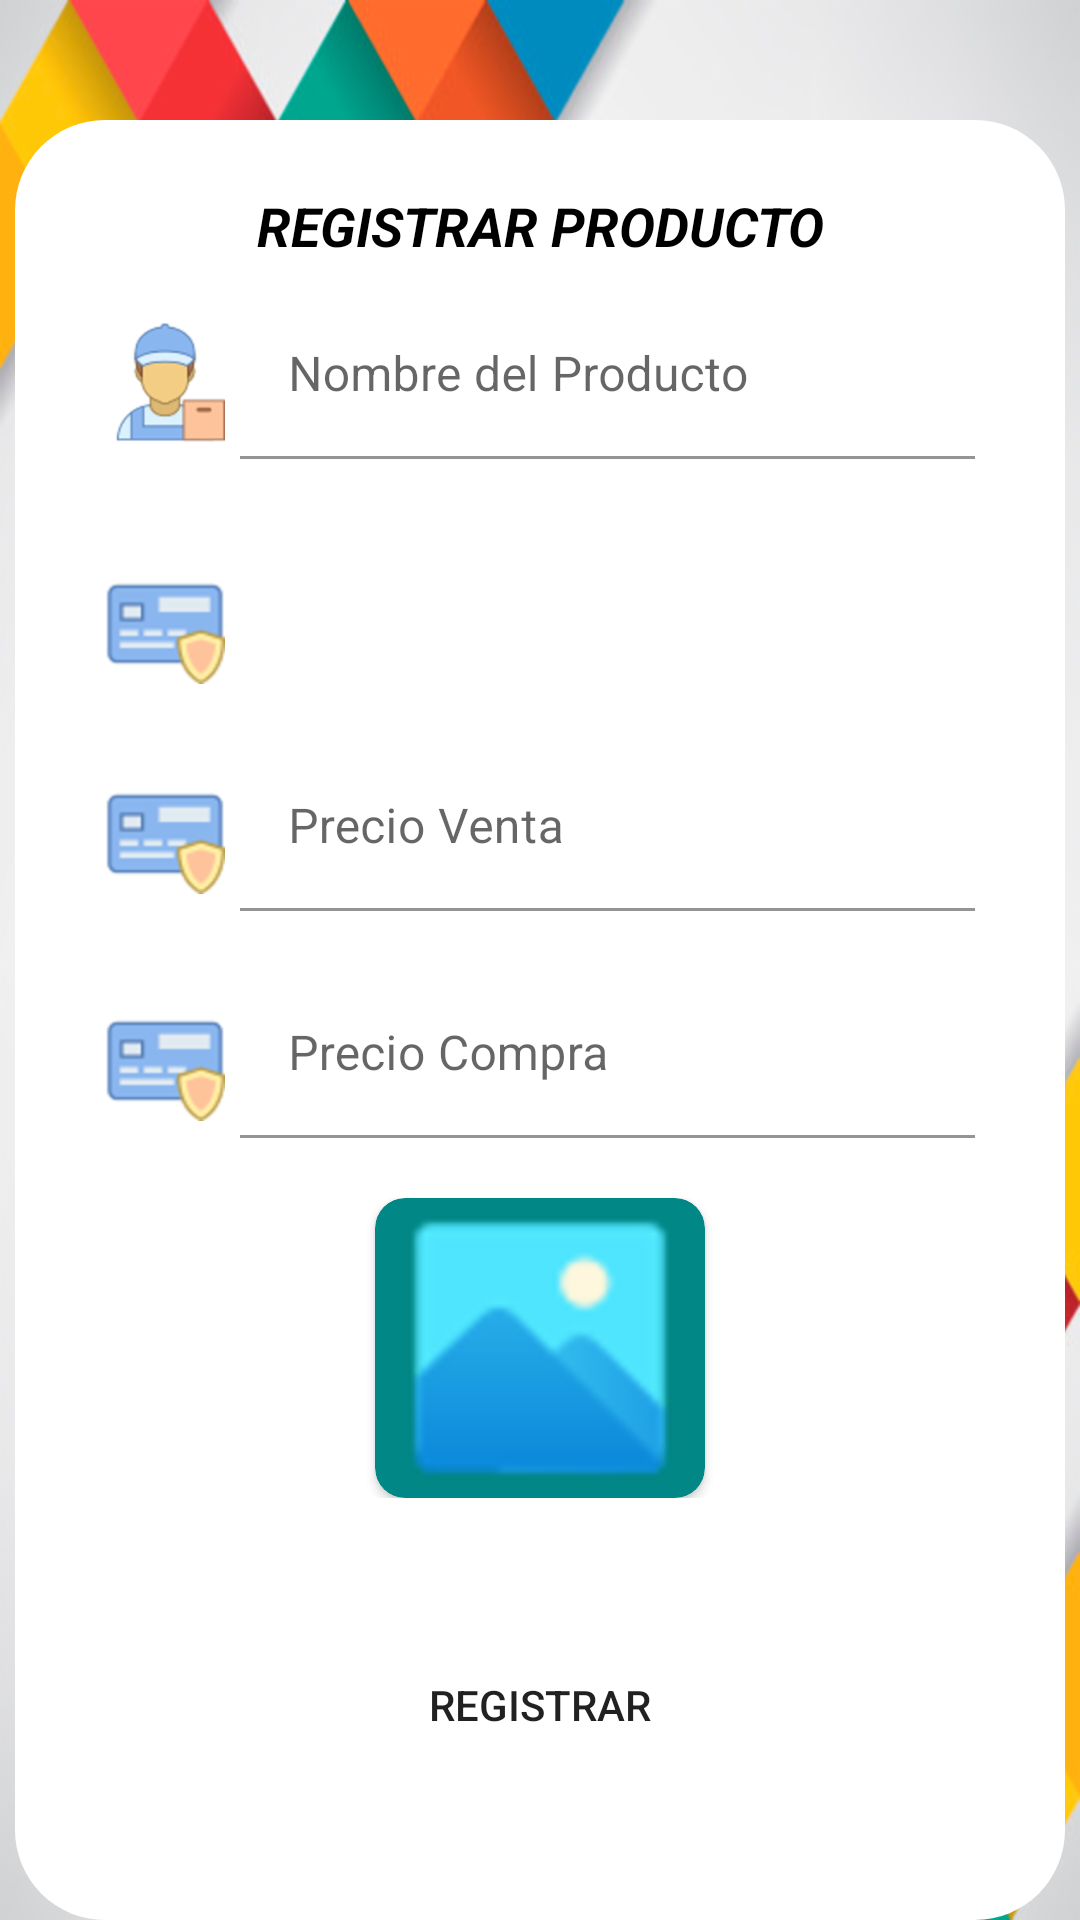

Icon bounding boxes for this 1080w x 1920h phone screenshot, format [x1,y1,x2,y2]:
card: [107,583,225,684], [107,793,225,894], [107,1020,225,1121]
proveeddor: [116,323,225,441]
